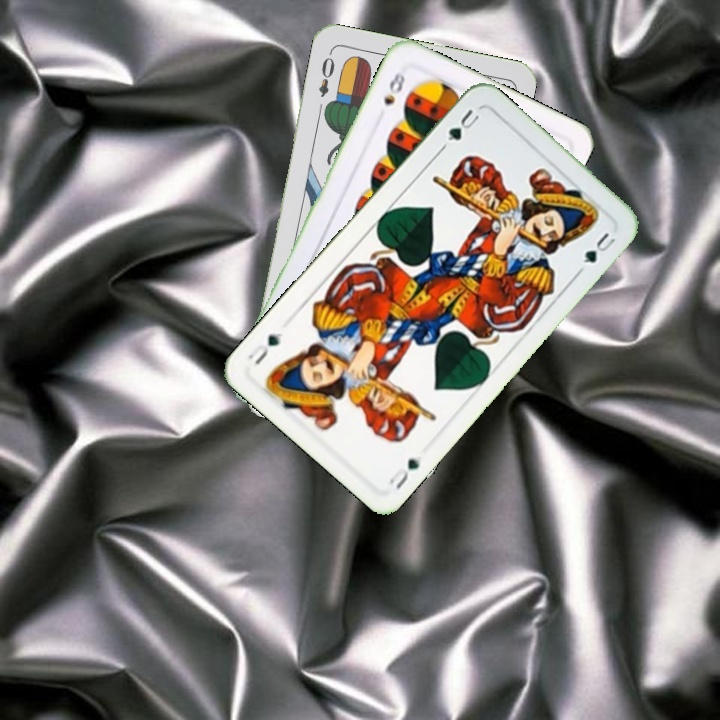EO: (314, 53, 338, 100)
GU: (443, 105, 484, 144), (385, 454, 423, 492)
S8: (379, 63, 410, 108)
